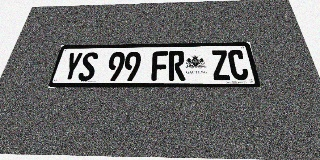9: (106, 52, 126, 81), (123, 51, 141, 81)
C: (227, 50, 250, 80)
F: (151, 51, 168, 81)
R: (169, 51, 186, 81)
S: (77, 52, 99, 81)
Y: (61, 52, 83, 81)
Z: (210, 50, 231, 80)
